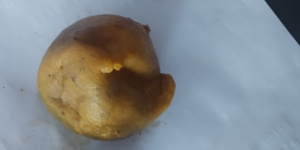BAD: (39, 14, 177, 143)
